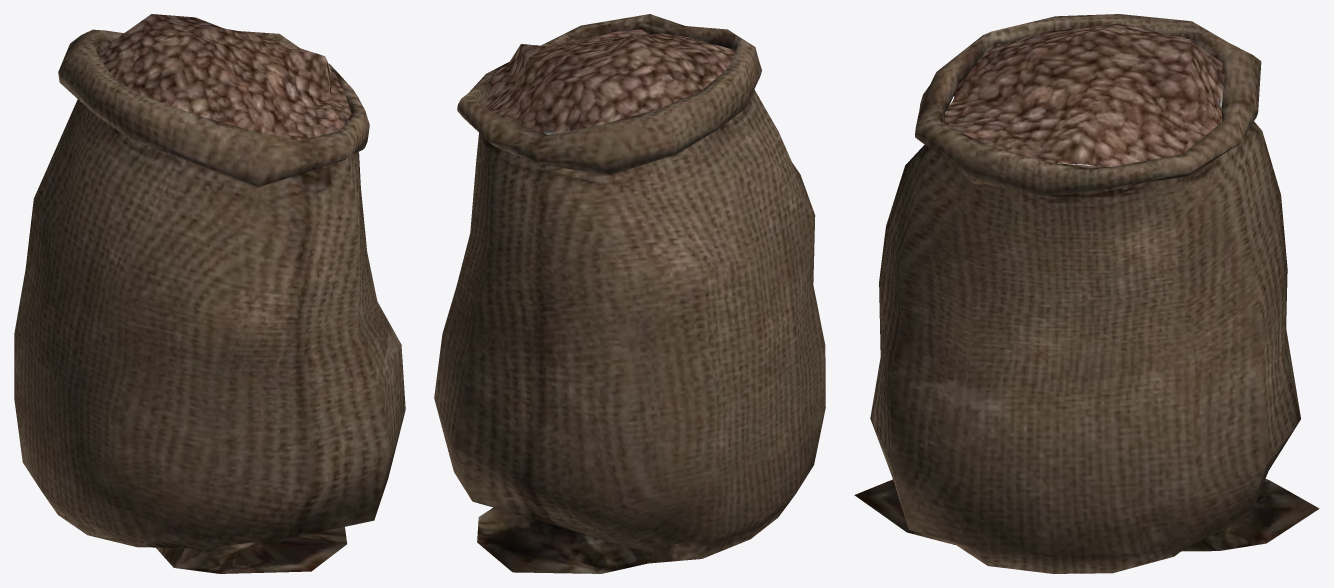
File: FOO_Jute_Bag_B-transformed.glb
3 views of the same model, side by side, from view 1: azimuth 30°, elevation 25°; view 2: azimuth 150°, elevation 25°; view 3: azimuth 270°, elevation 25° (orthographic). The views are drawn at different scales.
Parts seen in each view (by area): view 1: default; view 2: default; view 3: default.
Boxes of the visible parts, x1=… form: default: x1=14, y1=14, x2=405, y2=573; default: x1=434, y1=14, x2=825, y2=573; default: x1=854, y1=14, x2=1319, y2=573.
Bounding box in the file's own units: 0.4211 × 0.602 × 0.5349.
Materials: 1 (1 with a texture image).
